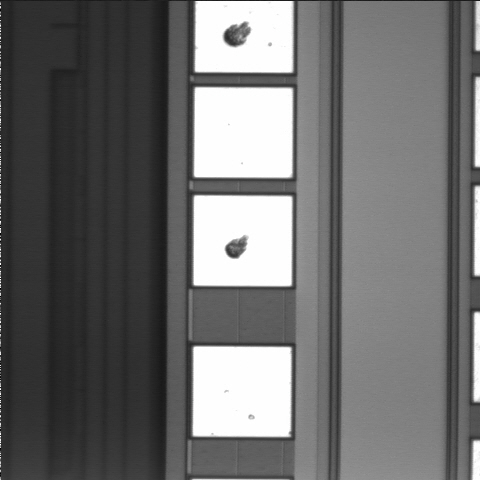pad: (194, 87, 293, 178), (194, 196, 292, 286), (193, 347, 291, 437)
